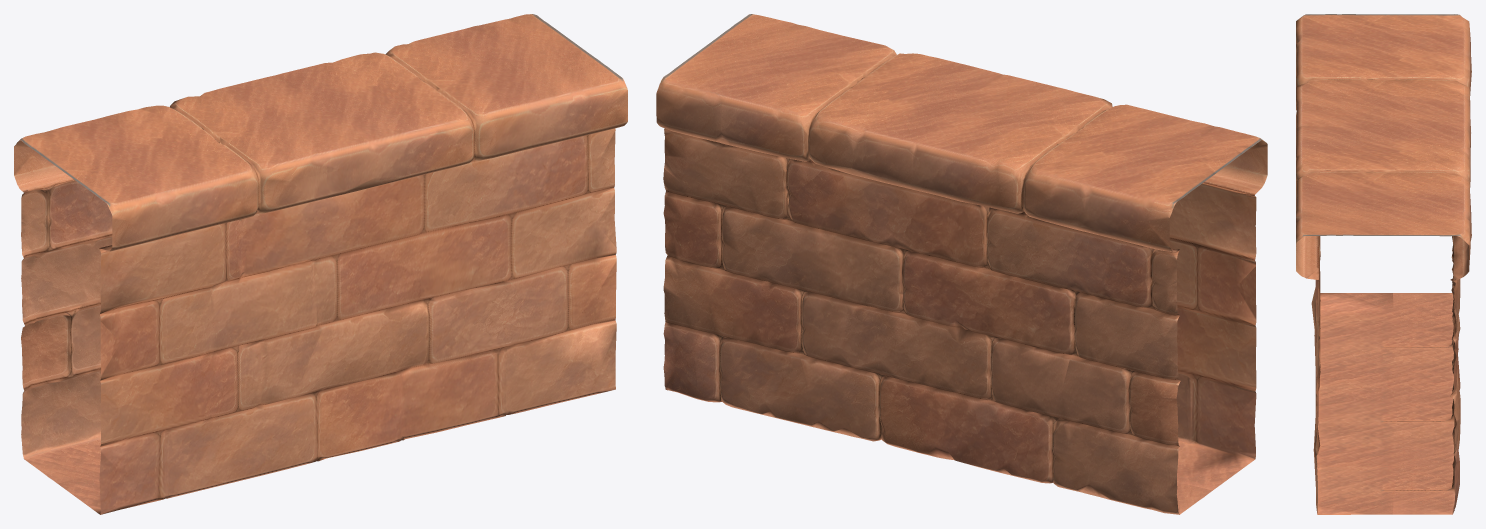
The model's file is retain-top.glb.
3 renders of one model, left to right at view 1: azimuth 30°, elevation 25°; view 2: azimuth 150°, elevation 25°; view 3: azimuth 270°, elevation 25°, orthographic. The views are drawn at different scales.
Visible parts, largest first — view 1: Mesh_0; view 2: Mesh_0; view 3: Mesh_0.
Boxes of the visible parts, <box> form: Mesh_0: <box>14,14,627,514</box>; Mesh_0: <box>656,14,1267,514</box>; Mesh_0: <box>1296,14,1471,514</box>.
Bounding box in the file's own units: 2 × 1.18 × 0.67.
1 material, 1 textured.
